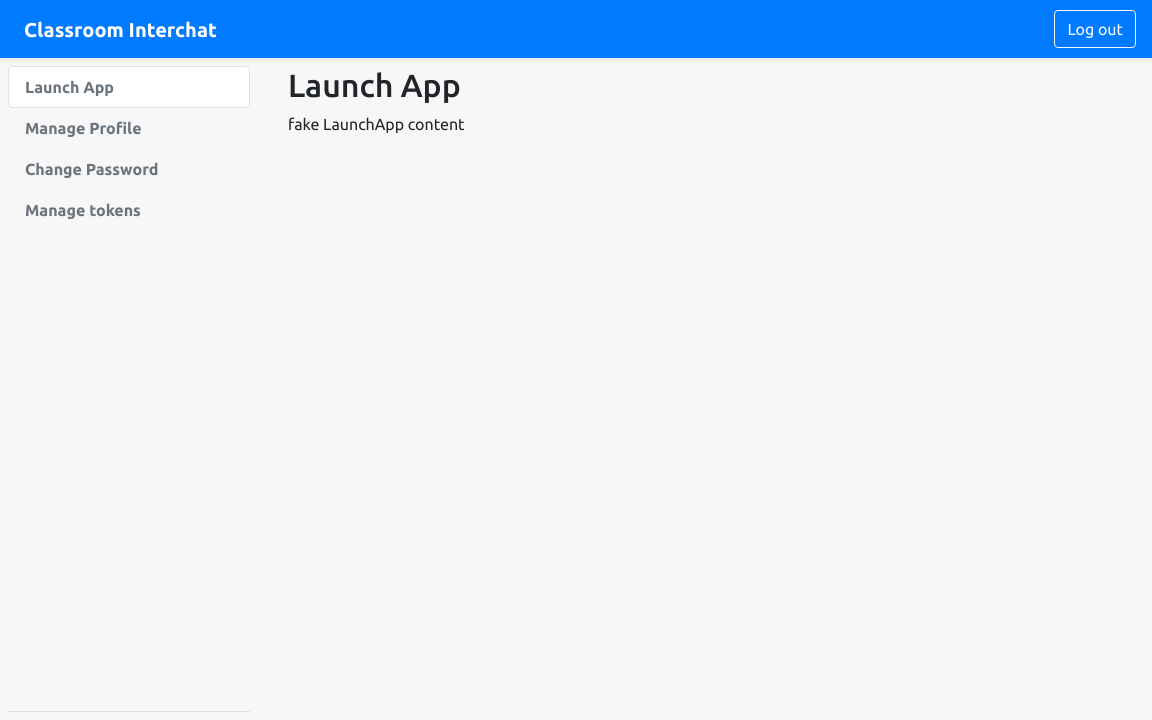
Account Component › Click on 4 tab
Click the tab "Launch App" at (129, 87), box [8,66,250,108]
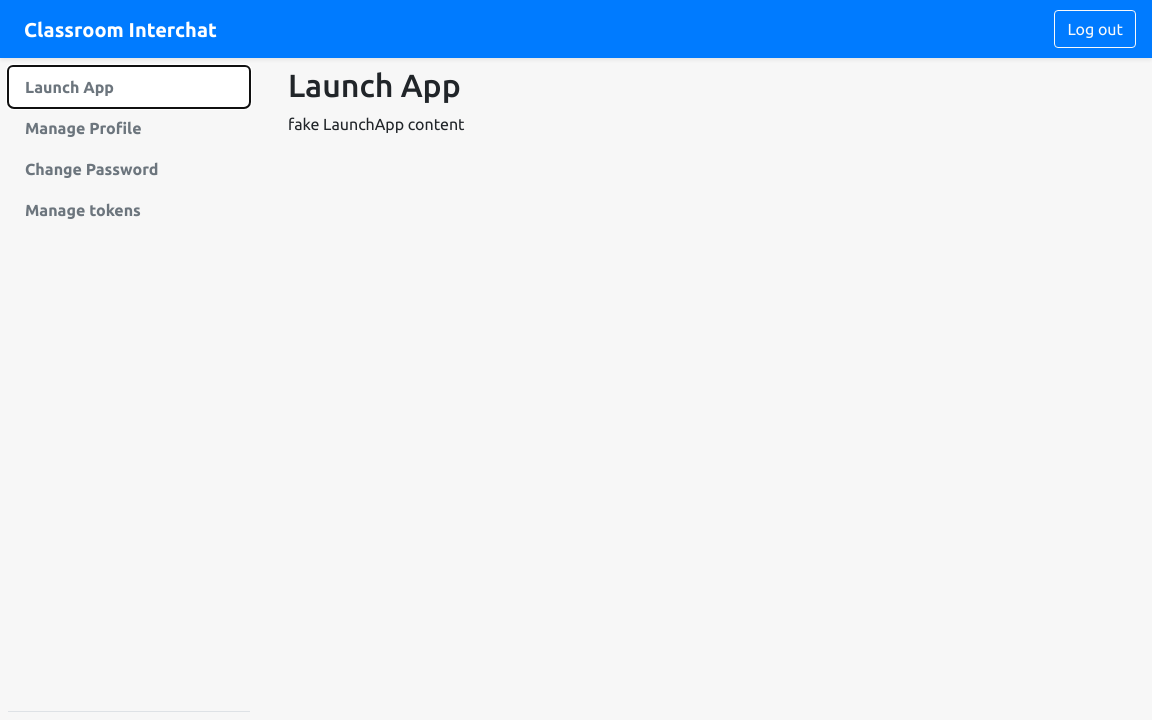
Expected: the text "fake LaunchApp content" is shown, [288,115,464,133]
Click the tab "Manage Profile" at (83, 128), box [25,119,142,137]
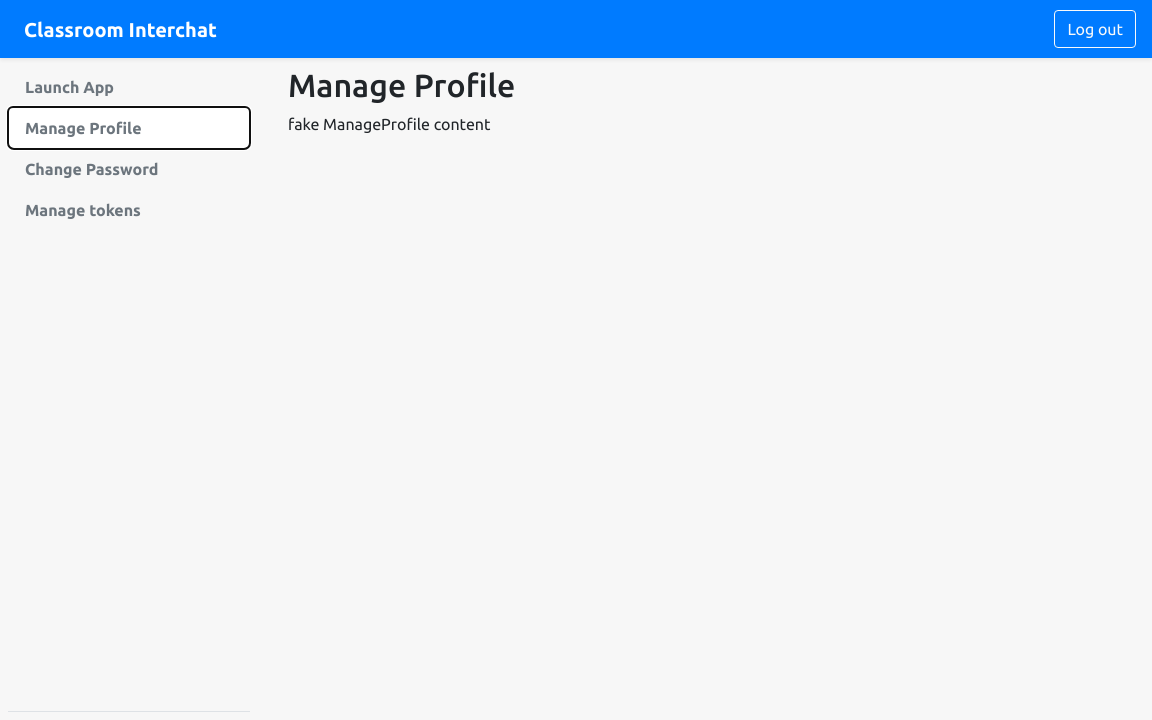
Expected: the text "fake ManageProfile content" is shown, [288,115,490,133]
Click the tab "Change Password" at (92, 169), box [25,160,158,178]
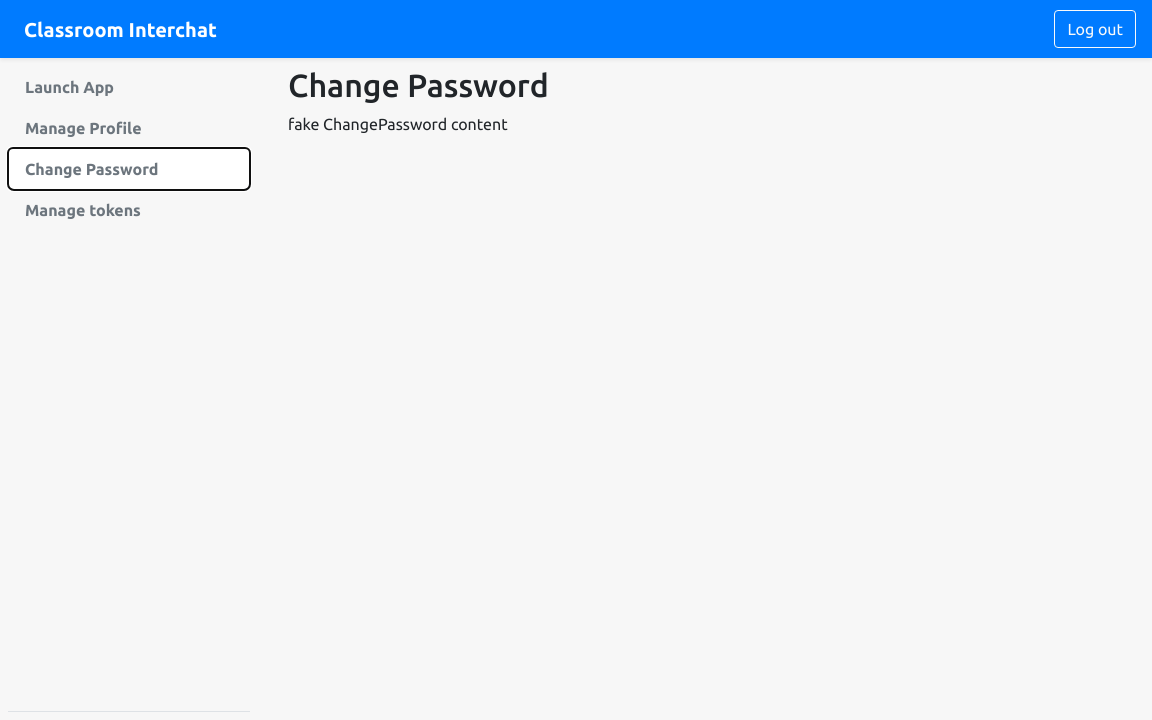
Expected: the text "fake ChangePassword content" is shown, [288,115,508,133]
Click the tab "Manage tokens" at (83, 210), box [25,201,141,219]
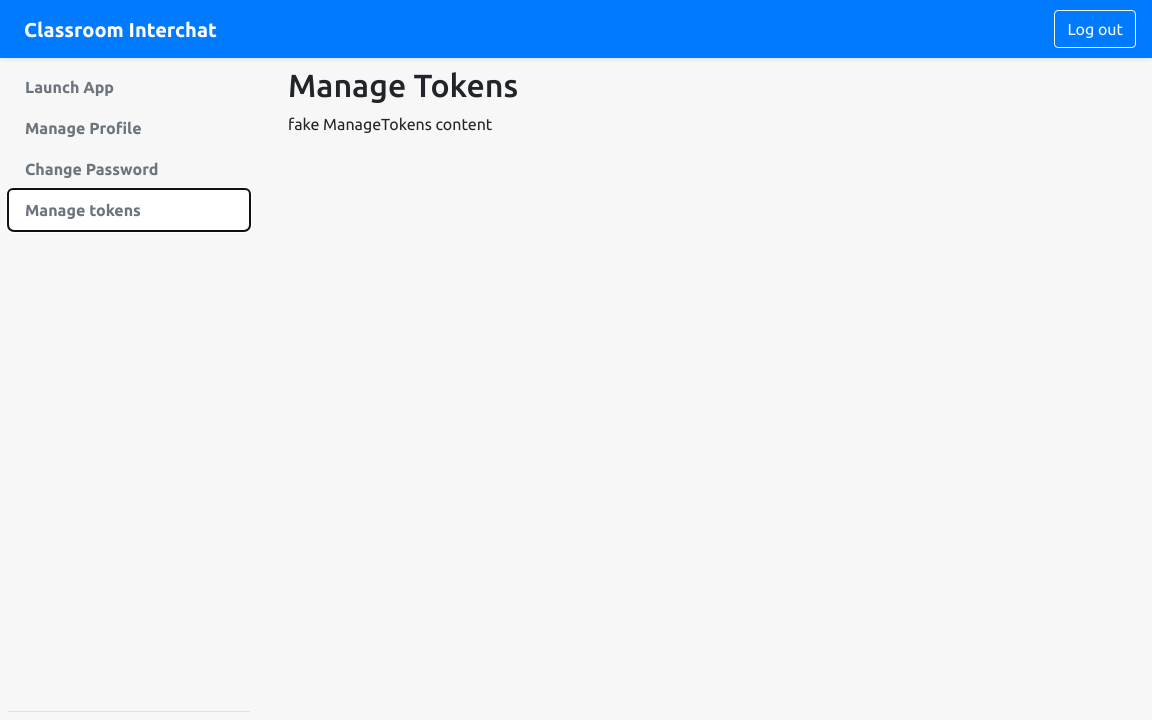
Expected: the text "fake ManageTokens content" is shown, [288,115,492,133]
